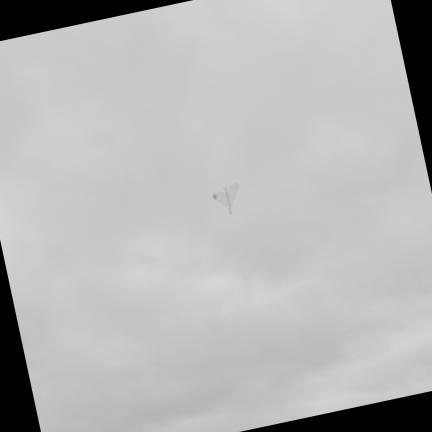Shahed: (213, 183, 238, 214)
